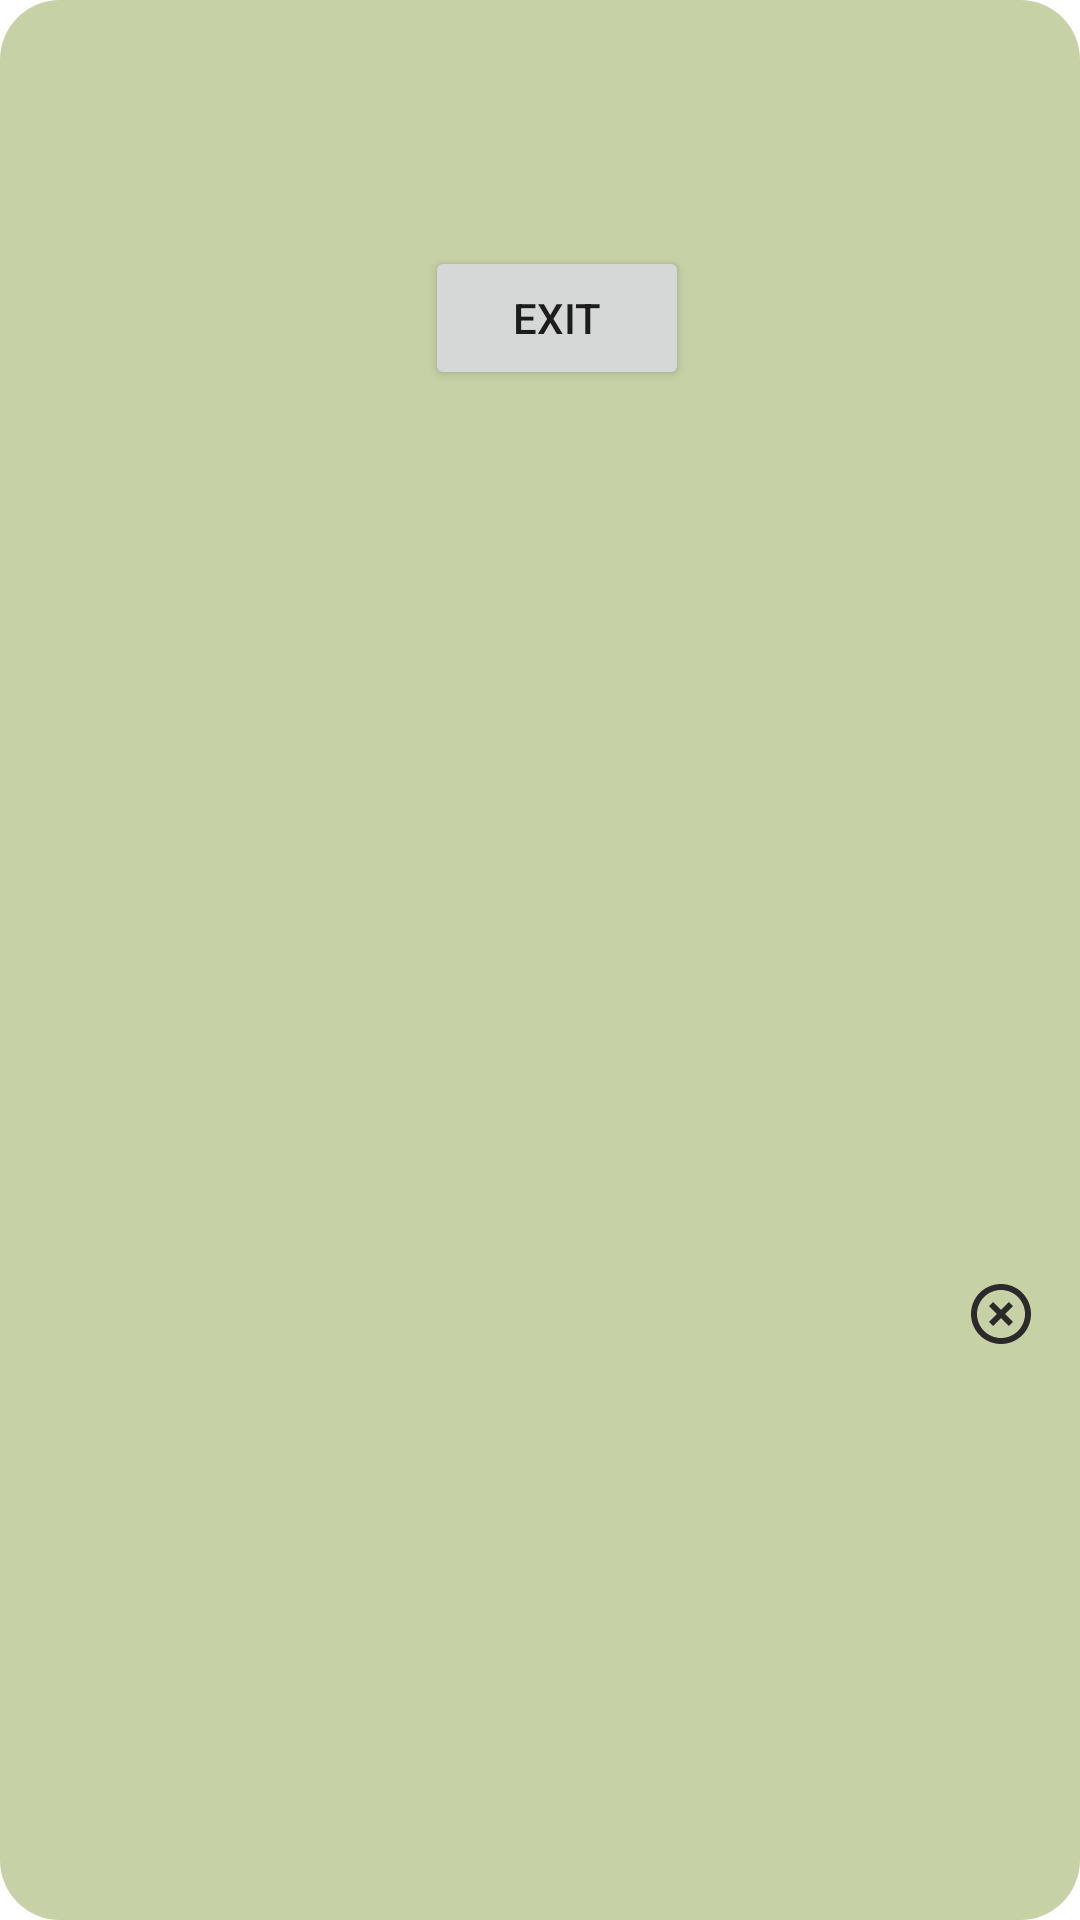

Point at icon controls on the screen. Image size 1080px x 1920px, points as [x,y].
close window: [1001,1314]
